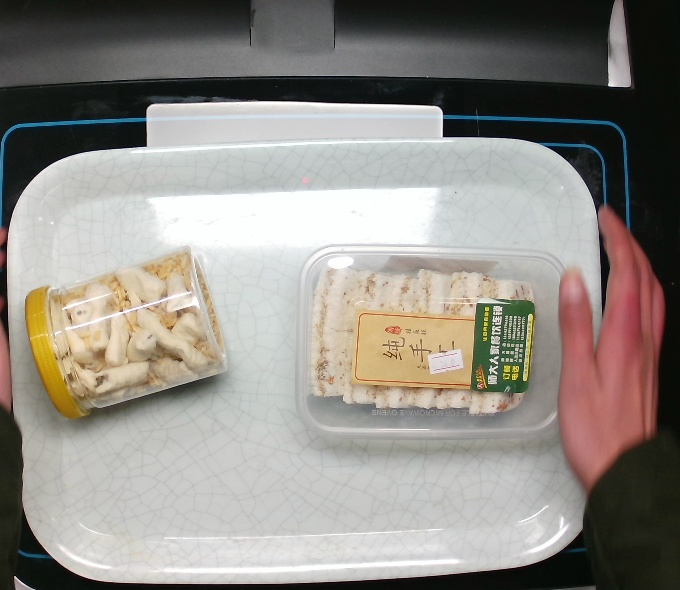wcq-GuiHuaGao: (290, 239, 573, 452)
wcq-MaiYaTang: (20, 241, 231, 423)
